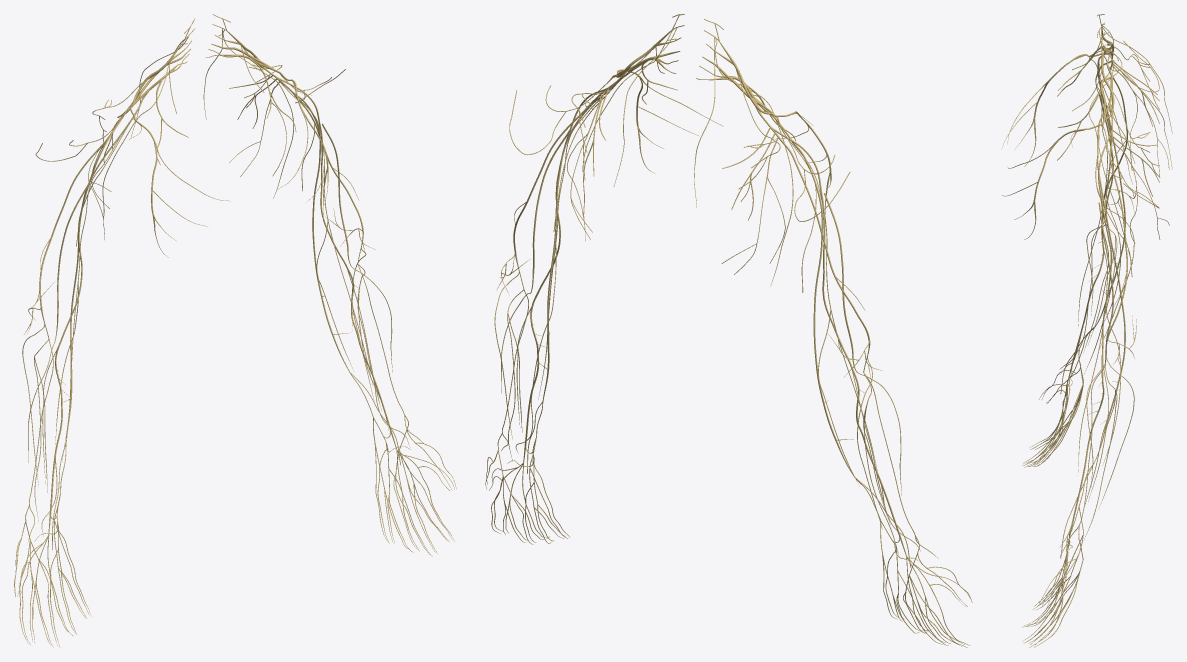
The model's file is nervous-upper-limb-balanced.glb.
The picture shows the model from 3 angles, left to right: view 1: azimuth 30°, elevation 25°; view 2: azimuth 150°, elevation 25°; view 3: azimuth 270°, elevation 25°; orthographic projection. The views are drawn at different scales.
Visible parts, largest first — view 1: za.median-nerve-r, za.median-nerve-l, za.dorsal-digital-branches-of-radial-nerve-l, za.ulnar-nerve-l, za.dorsal-digital-branches-of-radial-nerve-r, za.ulnar-nerve-r; view 2: za.median-nerve-r, za.ulnar-nerve-r, za.ulnar-nerve-l, za.median-nerve-l; view 3: za.median-nerve-l, za.ulnar-nerve-l, za.dorsal-digital-branches-of-radial-nerve-l, za.median-nerve-r, za.ulnar-nerve-r, za.lateral-pectoral-nerve-r, za.lateral-pectoral-nerve-l, za.proper-palmar-digital-branches-of-median-nerve-l, za.radial-nerve-l, za.dorsal-digital-branches-of-radial-nerve-r, za.superficial-branch-of-radial-nerve-l, za.proper-palmar-digital-branches-of-median-nerve-r (+2 smaller).
Boxes of the visible parts, x1,y1,x2,y2 form: za.median-nerve-r: (48,111,126,534); za.median-nerve-l: (276,76,397,449); za.dorsal-digital-branches-of-radial-nerve-l: (393,442,456,554); za.ulnar-nerve-l: (274,76,373,417); za.dorsal-digital-branches-of-radial-nerve-r: (14,538,70,645); za.ulnar-nerve-r: (60,107,138,493); za.median-nerve-r: (771,127,906,556); za.ulnar-nerve-r: (771,114,880,520); za.ulnar-nerve-l: (536,77,622,436); za.median-nerve-l: (523,88,606,463); za.median-nerve-l: (1067,129,1112,546); za.ulnar-nerve-l: (1078,120,1125,506); za.dorsal-digital-branches-of-radial-nerve-l: (1027,558,1083,647); za.median-nerve-r: (1067,61,1112,382); za.ulnar-nerve-r: (1079,58,1125,359); za.lateral-pectoral-nerve-r: (1001,53,1102,166); za.lateral-pectoral-nerve-l: (1001,122,1103,239); za.proper-palmar-digital-branches-of-median-nerve-l: (1022,554,1066,647); za.radial-nerve-l: (1104,139,1127,366); za.dorsal-digital-branches-of-radial-nerve-r: (1027,370,1083,465); za.superficial-branch-of-radial-nerve-l: (1060,367,1104,559); za.proper-palmar-digital-branches-of-median-nerve-r: (1022,384,1065,465).
Bounding box in the file's own units: 0.6675 × 0.803 × 0.2328.
